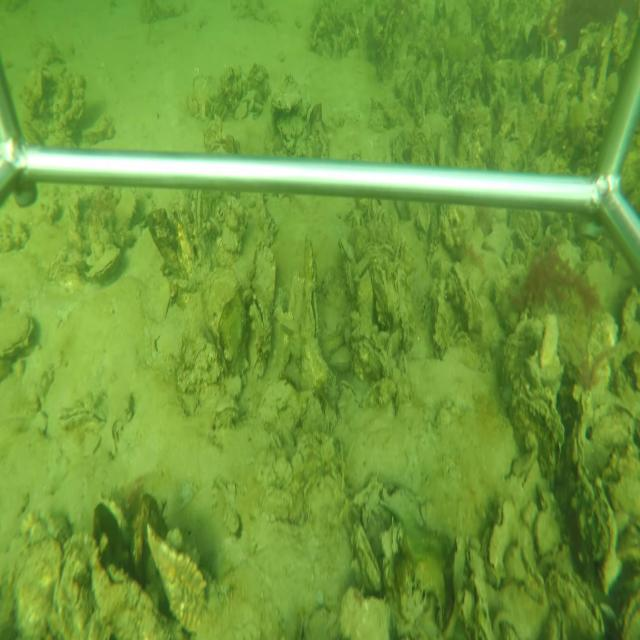Oyster-Closed: (506, 386, 566, 490), (301, 234, 337, 406), (204, 268, 250, 386), (484, 492, 521, 575), (349, 526, 384, 597), (1, 299, 35, 358), (393, 258, 415, 348), (347, 335, 390, 380), (83, 247, 123, 284), (337, 236, 357, 266), (344, 262, 357, 305)
Oyster-Indeterminate: (147, 525, 212, 637), (252, 240, 278, 321), (371, 261, 393, 330)
Oyster-Open: (544, 566, 607, 635), (249, 287, 268, 372), (405, 74, 427, 126), (213, 399, 238, 429), (533, 35, 550, 61)
